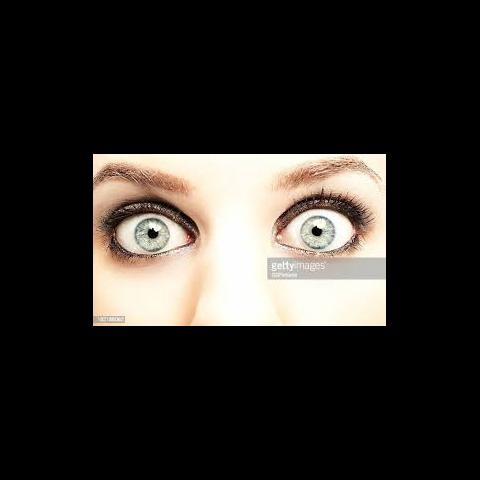opened: (101, 170, 374, 282)
